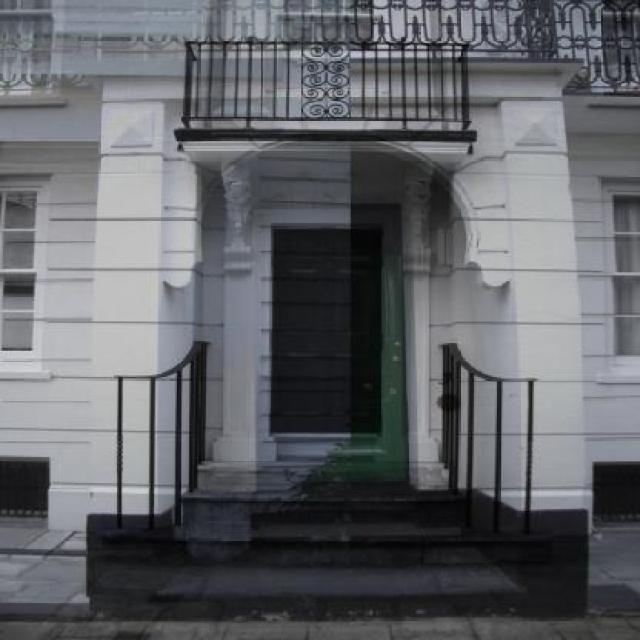stair: (157, 496, 528, 616)
